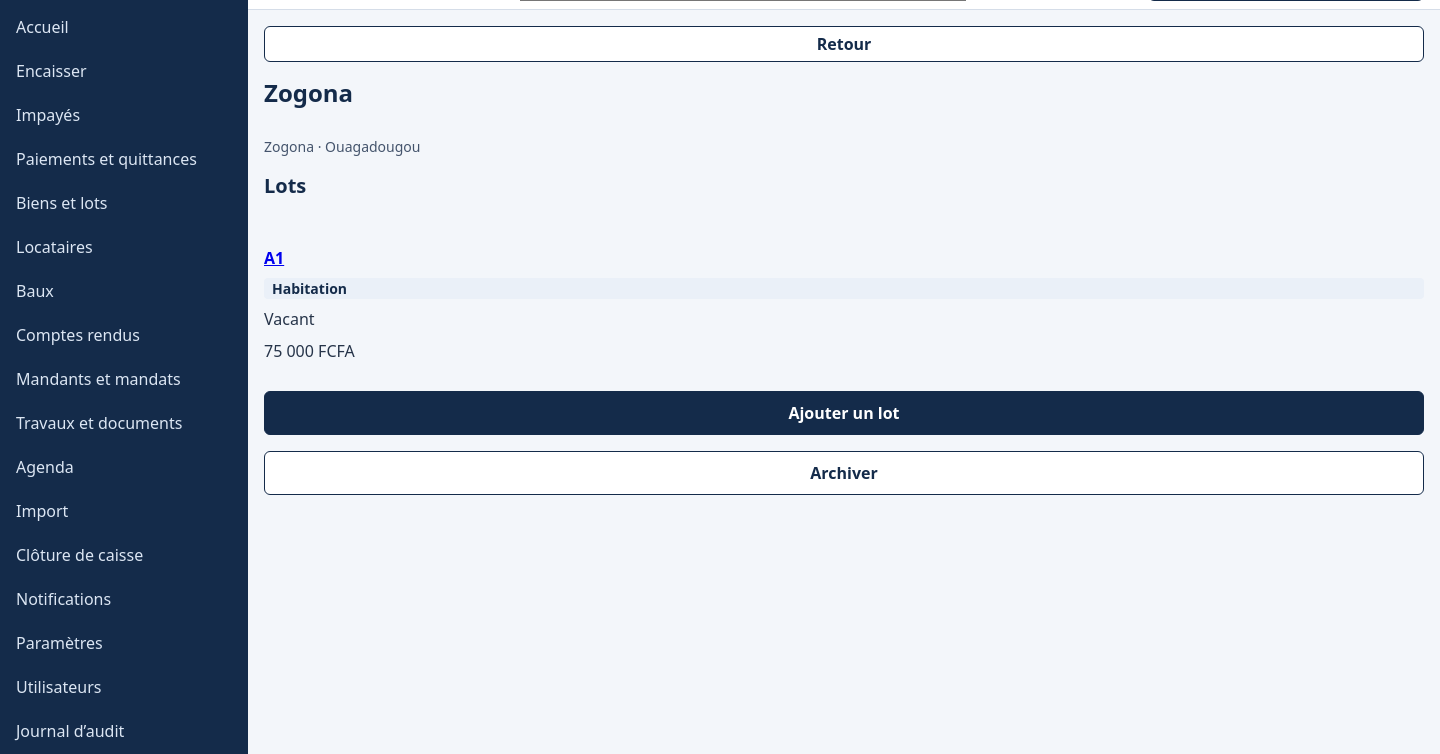
Test: S06 biens et lots › « Activité autorisée » n’apparaît que pour un lot commercial ou mixte (R-012)
Step 1. Click the button "Ajouter un lot" → (844, 413), box left=264, top=391, right=1424, bottom=435
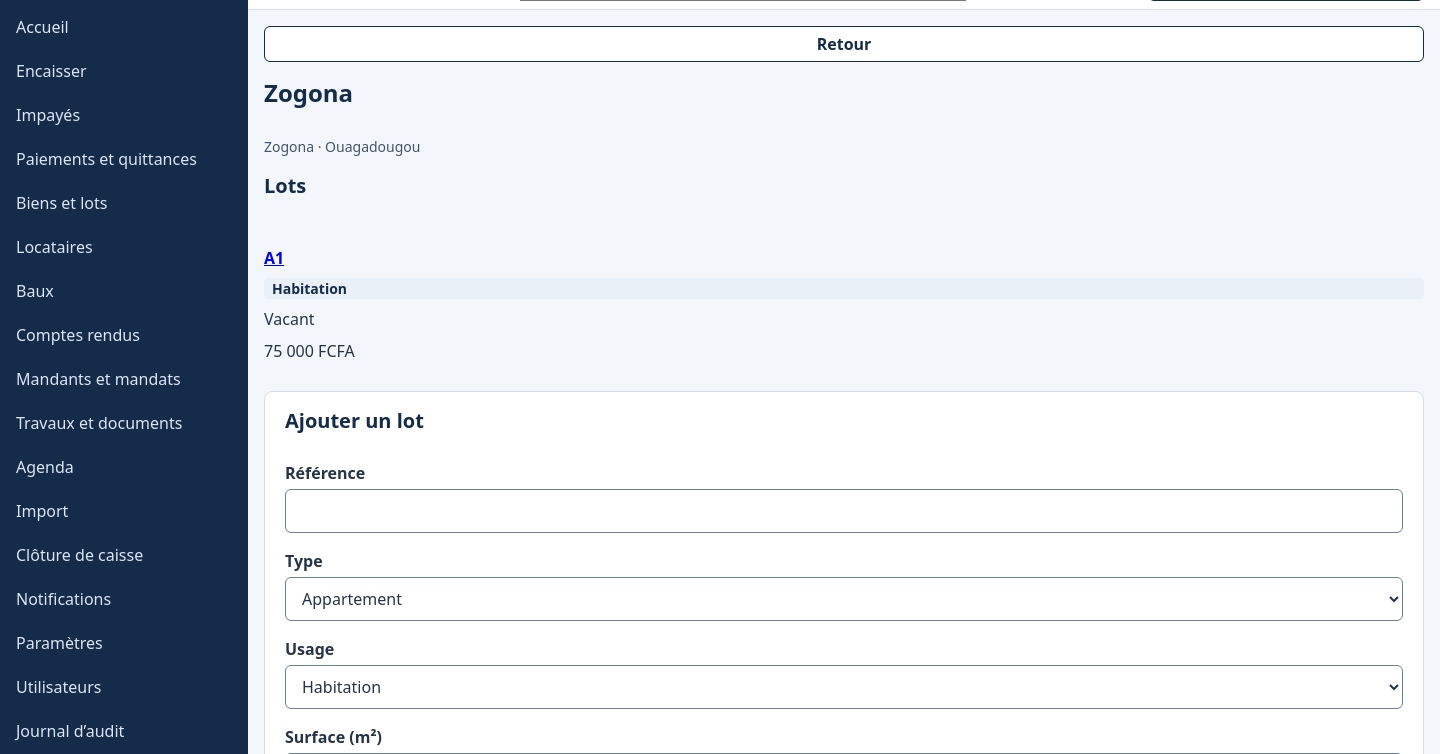
Expected: the field labelled "Activité autorisée" is not shown
Step 2. Select "Commercial" in the dropdown labelled "Usage" → (844, 687), box left=285, top=665, right=1403, bottom=709
(page scrolled)
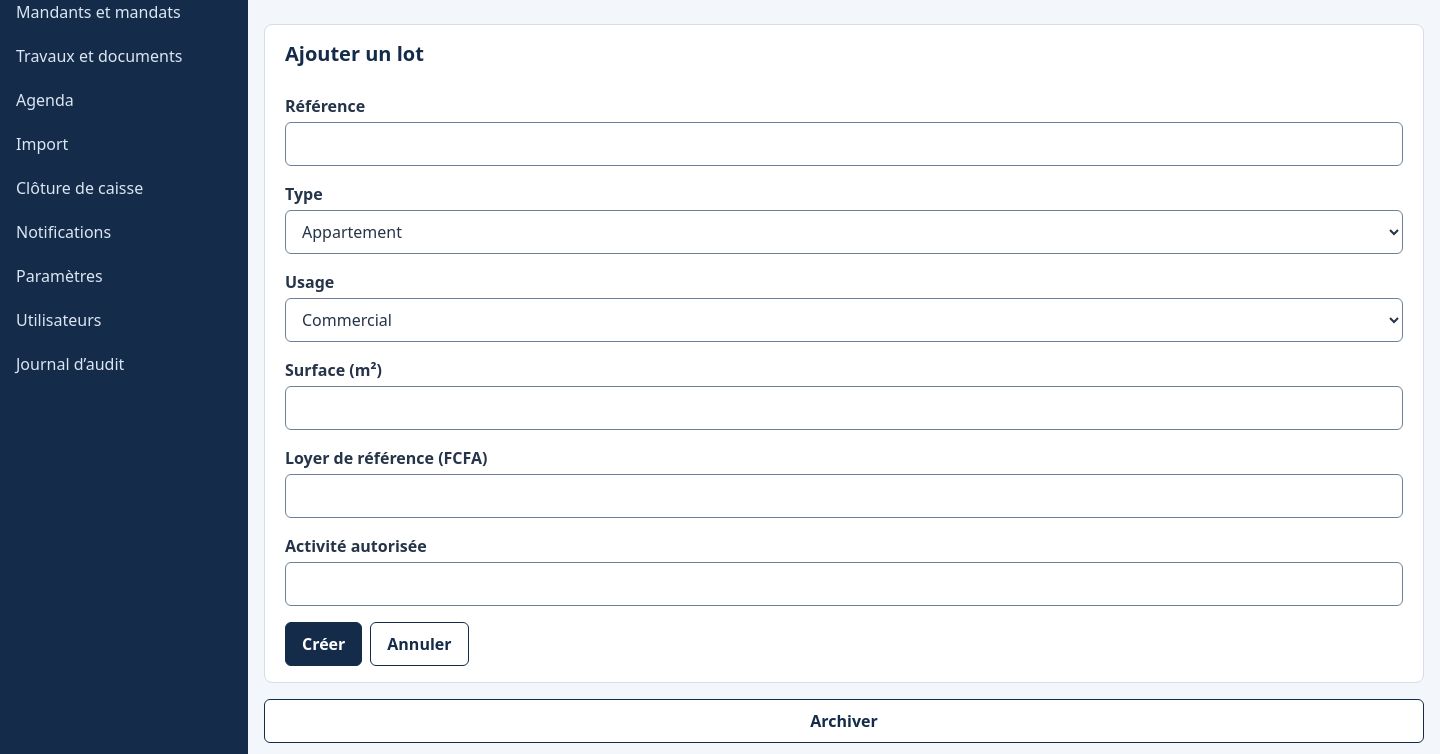
Expected: the field labelled "Activité autorisée" is shown, left=285, top=562, right=1403, bottom=606
